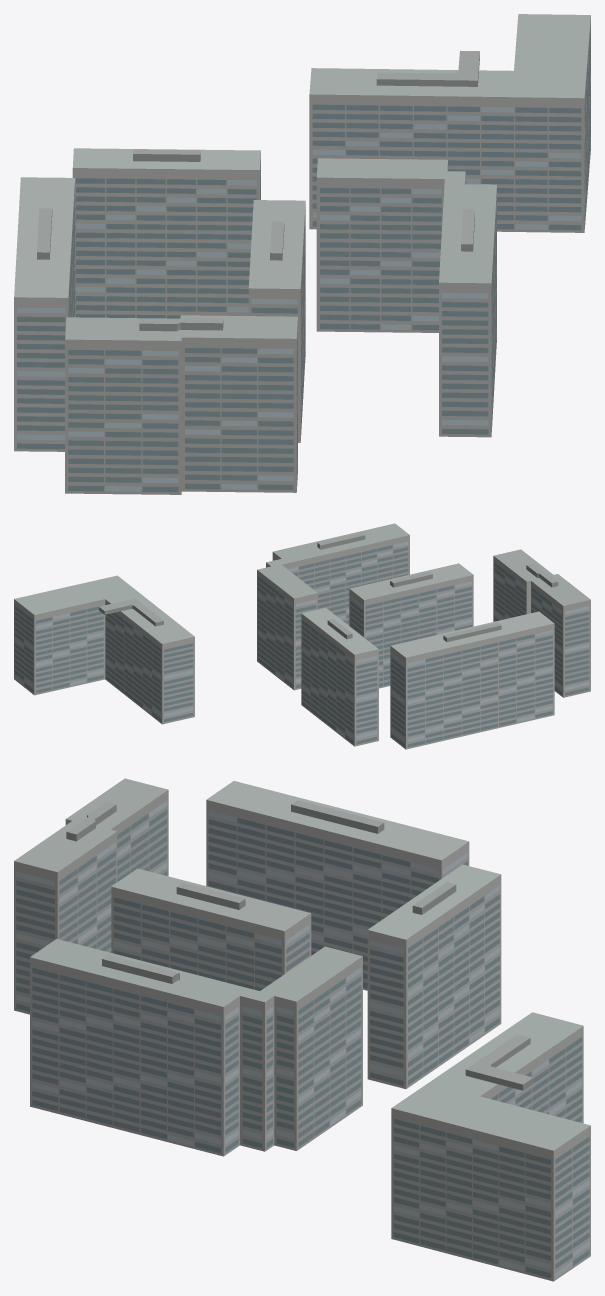
File: apt-a15703302.glb
The picture shows the model from 3 angles, top to bottom: view 1: azimuth 30°, elevation 25°; view 2: azimuth 150°, elevation 25°; view 3: azimuth 270°, elevation 25°; orthographic projection. The views are drawn at different scales.
Visible parts, largest first — view 1: apt-a15703302; view 2: apt-a15703302; view 3: apt-a15703302.
Part boxes in pixels (x1,y1,x2,y2): apt-a15703302: (14,14,590,494); apt-a15703302: (14,523,590,749); apt-a15703302: (14,778,590,1281).
Size of the model in its own units: 233 by 48 by 160.
